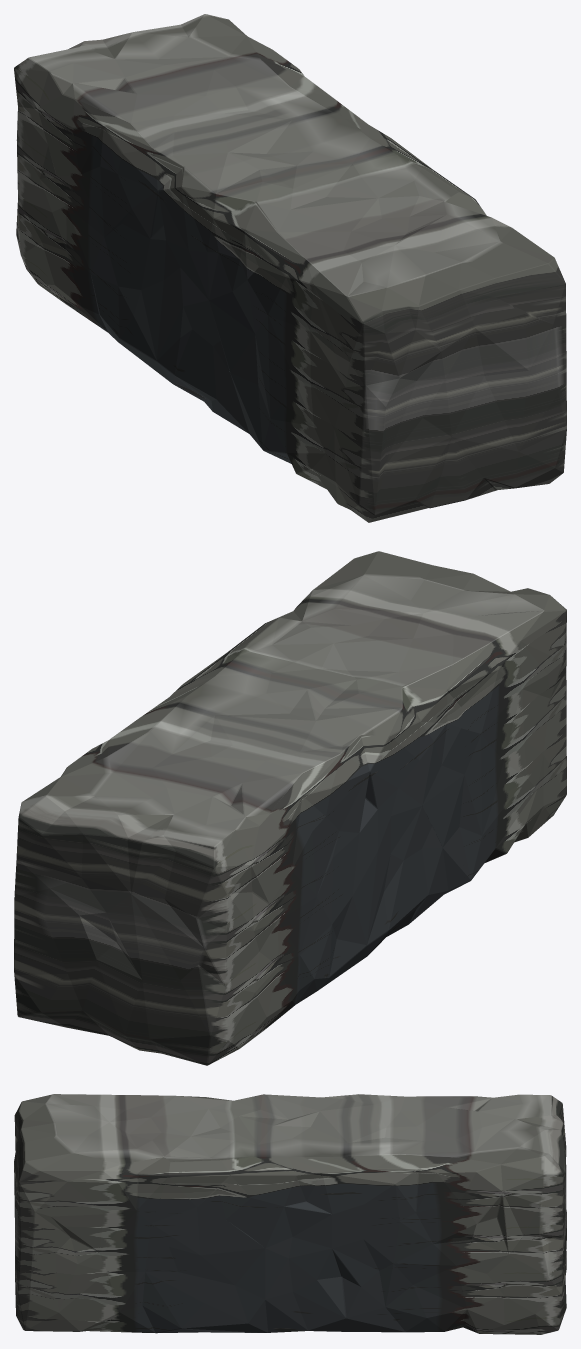
Rendered from Mod_PF3m.fbx.
The picture shows the model from 3 angles, top to bottom: view 1: azimuth 30°, elevation 25°; view 2: azimuth 150°, elevation 25°; view 3: azimuth 270°, elevation 25°; orthographic projection. The views are drawn at different scales.
Visible parts, largest first — view 1: PF3mA_Movable; view 2: PF3mA_Movable; view 3: PF3mA_Movable.
Boxes of the visible parts, bbox=[...] form: PF3mA_Movable: bbox=[14, 14, 566, 522]; PF3mA_Movable: bbox=[14, 551, 566, 1065]; PF3mA_Movable: bbox=[14, 1094, 566, 1334].
Size of the model in its own units: 1.06 by 1.06 by 3.06.
